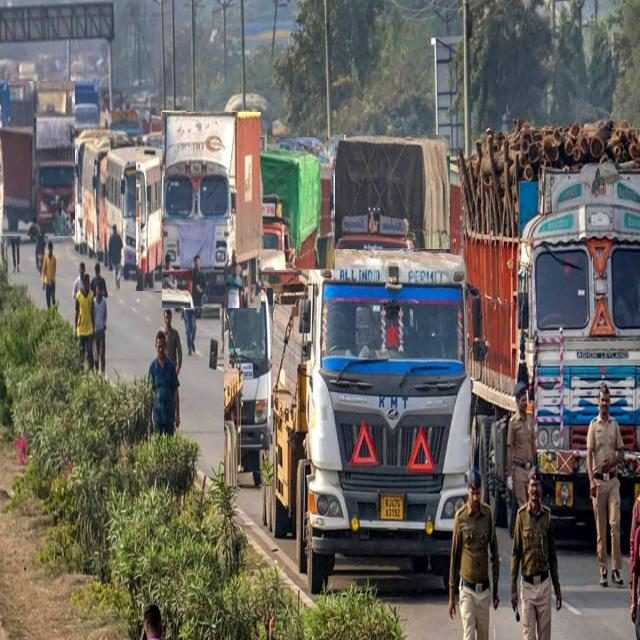bus: (0, 82, 75, 236), (104, 147, 145, 278), (136, 149, 162, 291), (81, 136, 110, 256)
car: (225, 289, 273, 486)
truck: (254, 249, 471, 593), (460, 120, 640, 523), (162, 112, 261, 308), (332, 135, 450, 249), (260, 138, 335, 270), (274, 151, 335, 269), (65, 82, 99, 126)
